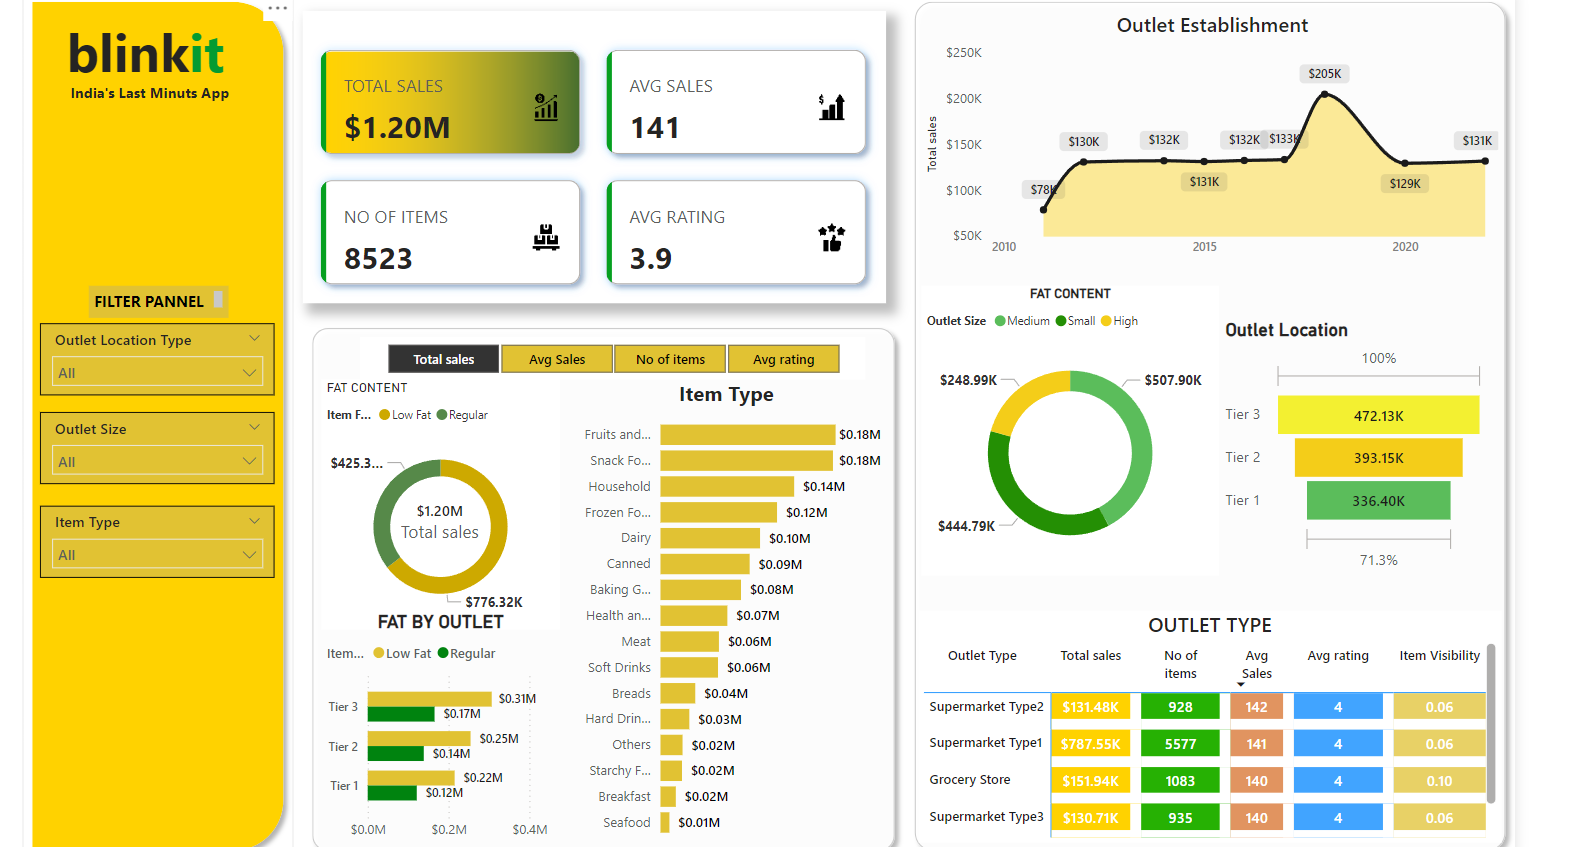

The dashboard page shown, as its layout file describes it:
{"tool":"powerbi","page":{"name":"Page 1","canvas":[1400,800],"ordinal":0},"visuals":[{"type":"shape","box":[25.4,0,249.3,800],"z":0},{"type":"textbox","box":[61.2,17.5,201.2,83.8],"z":1000},{"type":"textbox","box":[65,78.8,197.5,45],"z":2000},{"type":"cardVisual","title":" ","fields":{"Data":["BlinkIT Grocery Data.Total sales","BlinkIT Grocery Data.Avg Sales","BlinkIT Grocery Data.No of items","BlinkIT Grocery Data.Avg rating"]},"box":[283.6,17.8,538,269.6],"z":3000},{"type":"shape","box":[283.6,300.1,554.5,499.8],"z":4000},{"type":"donutChart","title":"FAT CONTENT","fields":{"Y":["BlinkIT Grocery Data.Total sales"],"Category":["BlinkIT Grocery Data.Item Fat Content"]},"box":[300.1,357.4,220,230.2],"z":5000},{"type":"slicer","fields":{"Values":["METRICS.METRICS"]},"box":[335.8,318,465.5,39.4],"z":6000},{"type":"cardVisual","fields":{"Data":["BlinkIT Grocery Data.Total sales"]},"box":[352.3,437.5,115.7,100.5],"z":7000},{"type":"clusteredBarChart","title":"FAT BY OUTLET","fields":{"Y":["BlinkIT Grocery Data.Total sales"],"Category":["BlinkIT Grocery Data.Outlet Location Type"],"Series":["BlinkIT Grocery Data.Item Fat Content"]},"box":[300.1,569.8,220,220],"z":8000},{"type":"barChart","title":" Item Type","fields":{"Y":["BlinkIT Grocery Data.Total sales"],"Category":["BlinkIT Grocery Data.Item Type"]},"box":[526.5,357.4,295.1,432.4],"z":9000},{"type":"shape","box":[838.1,0,562.1,800],"z":10000},{"type":"lineChart","title":"Outlet Establishment ","fields":{"Category":["BlinkIT Grocery Data.Outlet Establishment Year"],"Y":["BlinkIT Grocery Data.Total sales"]},"box":[853.4,17.8,536.7,235.3],"z":11000},{"type":"donutChart","title":"FAT CONTENT","fields":{"Y":["BlinkIT Grocery Data.Total sales"],"Category":["BlinkIT Grocery Data.Outlet Size"]},"box":[853.4,270.9,274.7,267.1],"z":12000},{"type":"funnel","title":" Outlet Location ","fields":{"Y":["Sum(BlinkIT Grocery Data.Sales)"],"Category":["BlinkIT Grocery Data.Outlet Location Type"]},"box":[1128.1,300.1,249.3,237.8],"z":13000},{"type":"pivotTable","title":"OUTLET TYPE","fields":{"Rows":["BlinkIT Grocery Data.Outlet Type"],"Values":["BlinkIT Grocery Data.Total sales","BlinkIT Grocery Data.No of items","BlinkIT Grocery Data.Avg Sales","BlinkIT Grocery Data.Avg rating","Avg(BlinkIT Grocery Data.Item Visibility)"]},"box":[850.8,569.8,536.7,213.7],"z":14000},{"type":"slicer","fields":{"Values":["BlinkIT Grocery Data.Item Type"]},"box":[42,473.1,216.2,66.1],"z":15000},{"type":"slicer","fields":{"Values":["BlinkIT Grocery Data.Outlet Size"]},"box":[42,386.6,216.2,66.1],"z":16000},{"type":"slicer","fields":{"Values":["BlinkIT Grocery Data.Outlet Location Type"]},"box":[42,305.2,216.2,66.1],"z":17000},{"type":"textbox","box":[86.5,270.9,128.5,29.3],"z":18000}]}

Visuals, with their boxes on the page's 1400x800 design canvas (x1, y1, x2, y2). These are canvas units, not pixel positions in the 1575x847 screenshot, which may show the page scaled, cropped or inside an application window:
shape: box(25, 0, 275, 800)
textbox: box(61, 18, 262, 101)
textbox: box(65, 79, 262, 124)
" " cardVisual: box(284, 18, 822, 287)
shape: box(284, 300, 838, 800)
"FAT CONTENT" donutChart: box(300, 357, 520, 588)
slicer - METRICS.METRICS: box(336, 318, 801, 357)
cardVisual - BlinkIT Grocery Data.Total sales: box(352, 438, 468, 538)
"FAT BY OUTLET" clusteredBarChart: box(300, 570, 520, 790)
" Item Type" barChart: box(526, 357, 822, 790)
shape: box(838, 0, 1400, 800)
"Outlet Establishment " lineChart: box(853, 18, 1390, 253)
"FAT CONTENT" donutChart: box(853, 271, 1128, 538)
" Outlet Location " funnel: box(1128, 300, 1377, 538)
"OUTLET TYPE" pivotTable: box(851, 570, 1388, 784)
slicer - BlinkIT Grocery Data.Item Type: box(42, 473, 258, 539)
slicer - BlinkIT Grocery Data.Outlet Size: box(42, 387, 258, 453)
slicer - BlinkIT Grocery Data.Outlet Location Type: box(42, 305, 258, 371)
textbox: box(86, 271, 215, 300)
